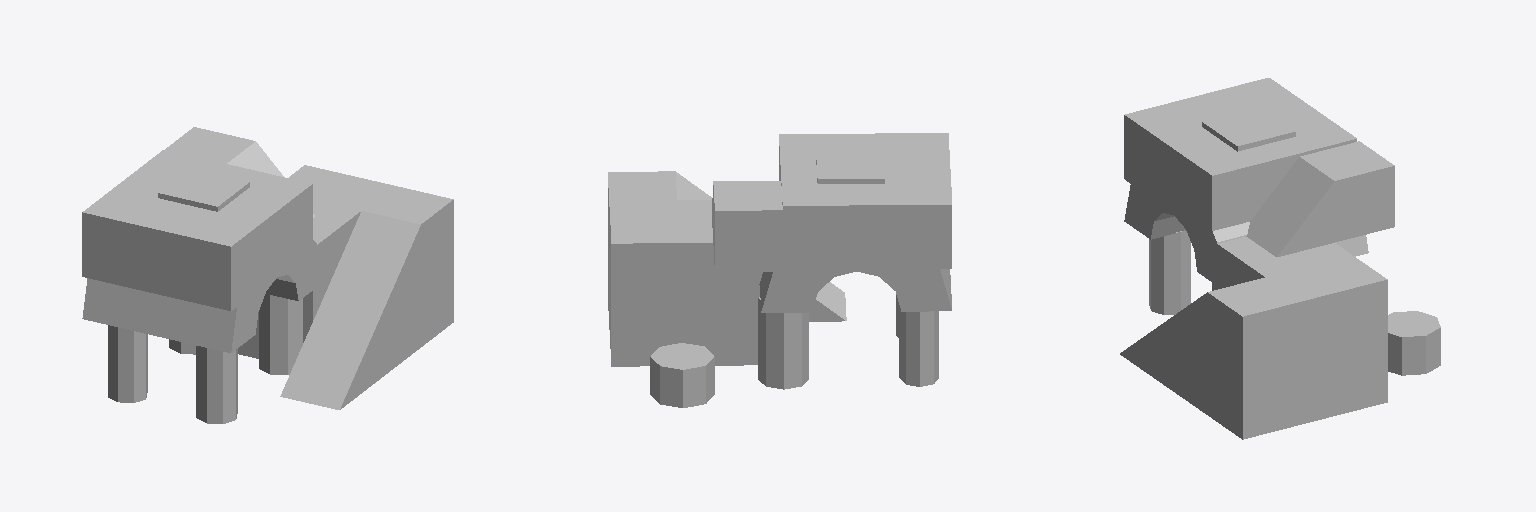
Rendered from mini temple.obj.
The picture shows the model from 3 angles: view 1: azimuth 30°, elevation 25°; view 2: azimuth 150°, elevation 25°; view 3: azimuth 270°, elevation 25°; orthographic projection.
Visible parts, largest first — view 1: mini temple; view 2: mini temple; view 3: mini temple.
Boxes of the visible parts, x1=… form: mini temple: x1=82, y1=127, x2=453, y2=423; mini temple: x1=608, y1=133, x2=951, y2=407; mini temple: x1=1120, y1=78, x2=1440, y2=439.
Bounding box in the file's own units: 12.18 × 6.27 × 9.48.